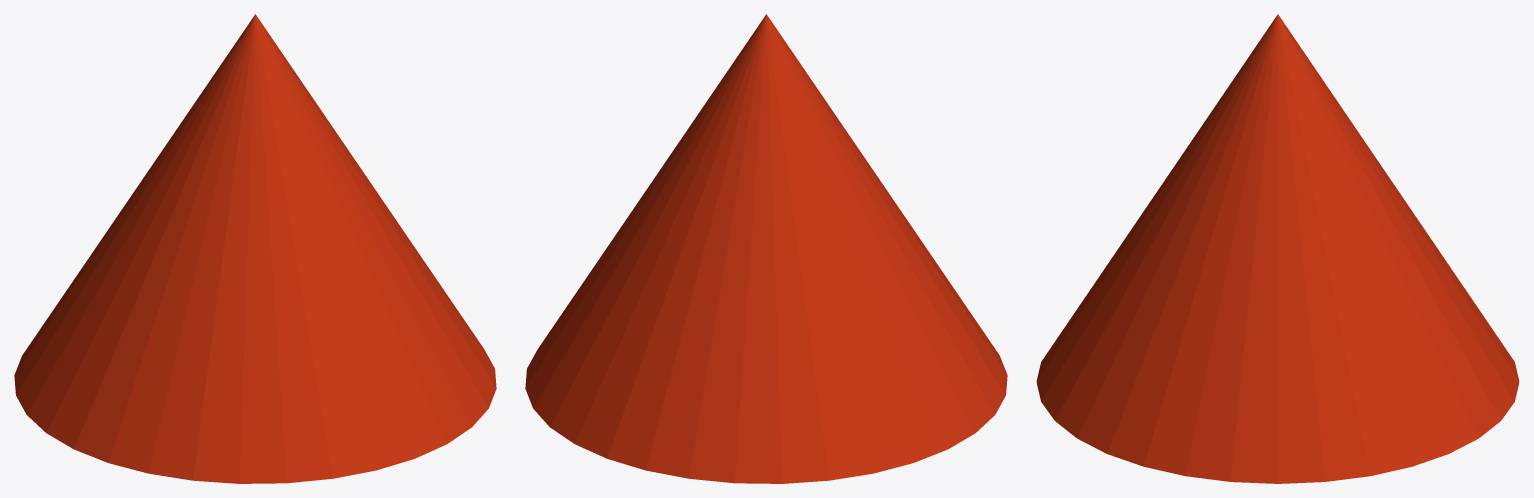
Rendered from campfire_fire.obj.
The picture shows the model from 3 angles, left to right: view 1: azimuth 30°, elevation 25°; view 2: azimuth 150°, elevation 25°; view 3: azimuth 270°, elevation 25°; orthographic projection.
Parts seen in each view (by area): view 1: CampfireFire; view 2: CampfireFire; view 3: CampfireFire.
Part boxes in pixels (x1=…): CampfireFire: x1=14, y1=14, x2=496, y2=483; CampfireFire: x1=525, y1=14, x2=1007, y2=483; CampfireFire: x1=1036, y1=14, x2=1519, y2=483.
Bounding box in the file's own units: 0.9477 × 0.7965 × 0.9477.
